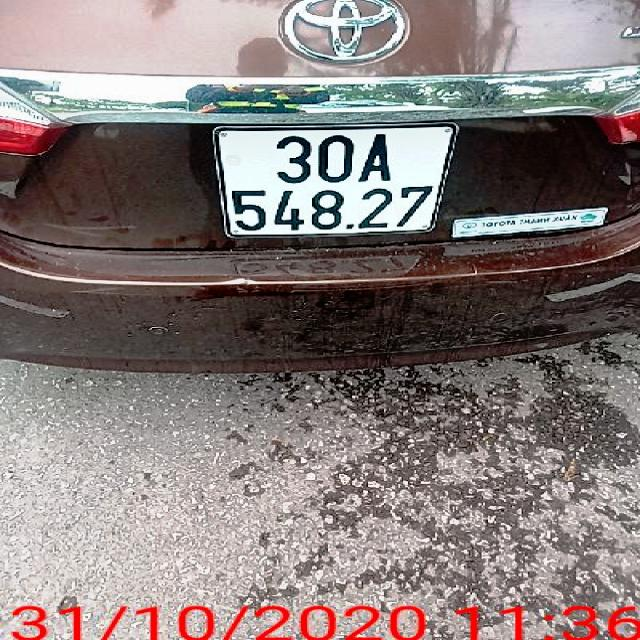license_plate: (221, 123, 459, 238)
